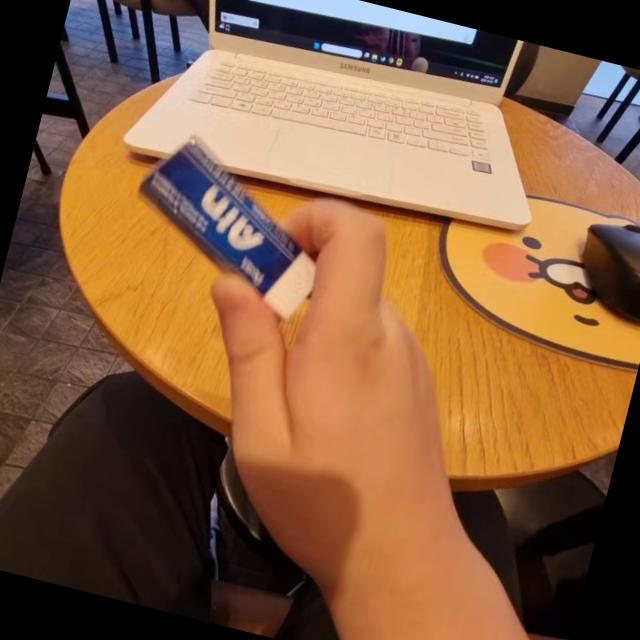eraser: (117, 122, 336, 314)
grab_eraser: (52, 109, 510, 606)
hand: (205, 186, 474, 573)
mouse: (553, 201, 640, 375)
